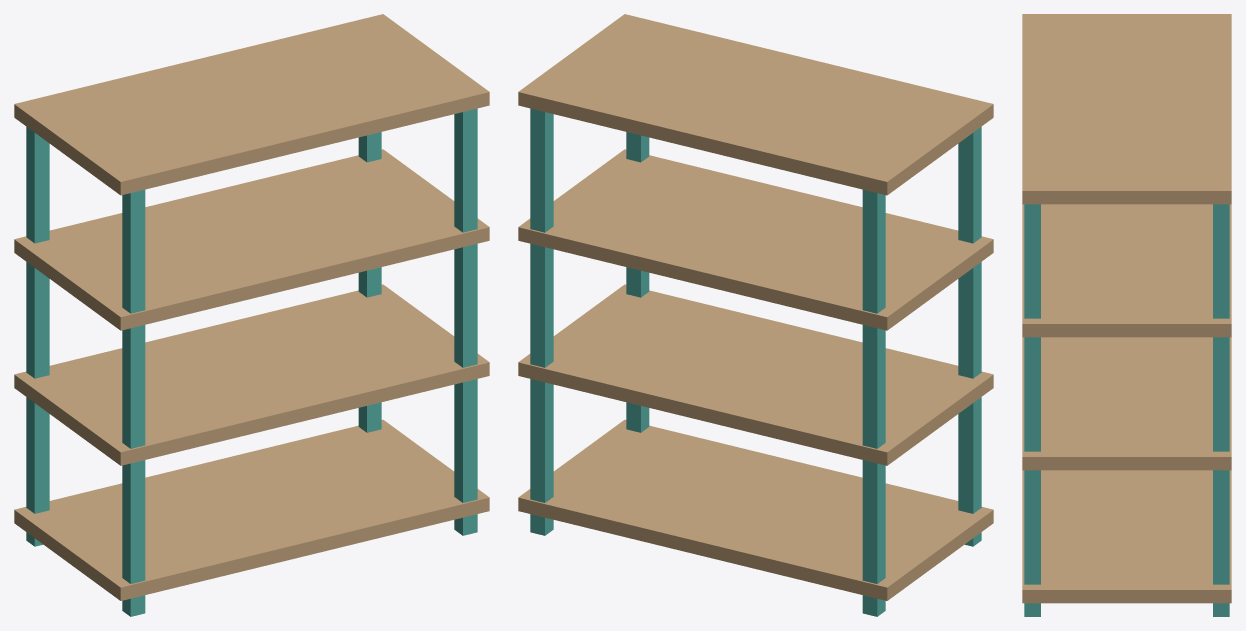
File: supermarket-operations-stockroom-shelf-226919c9__26805.glb
3 renders of one model, left to right at view 1: azimuth 30°, elevation 25°; view 2: azimuth 150°, elevation 25°; view 3: azimuth 270°, elevation 25°, orthographic.
Visible parts, largest first — view 1: stockroom-shelf; view 2: stockroom-shelf; view 3: stockroom-shelf.
Boxes of the visible parts, bbox=[...] form: stockroom-shelf: bbox=[14, 14, 489, 616]; stockroom-shelf: bbox=[518, 14, 993, 616]; stockroom-shelf: bbox=[1022, 14, 1231, 616].
Bounding box in the file's own units: 2 × 2.27 × 1.
